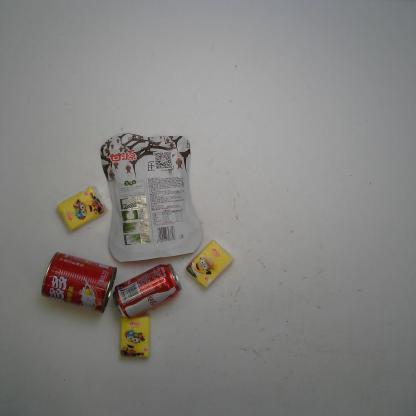Canned Food: (40, 252, 117, 315)
Dried Fruit: (99, 131, 204, 261)
Drink: (111, 264, 183, 320)
Tissue: (55, 185, 107, 233), (186, 240, 232, 289), (119, 315, 151, 360)
